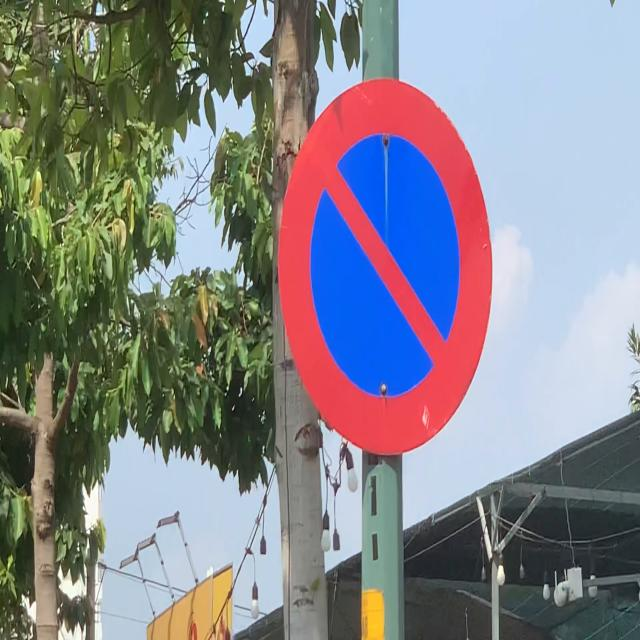Cam do: (274, 73, 494, 461)
